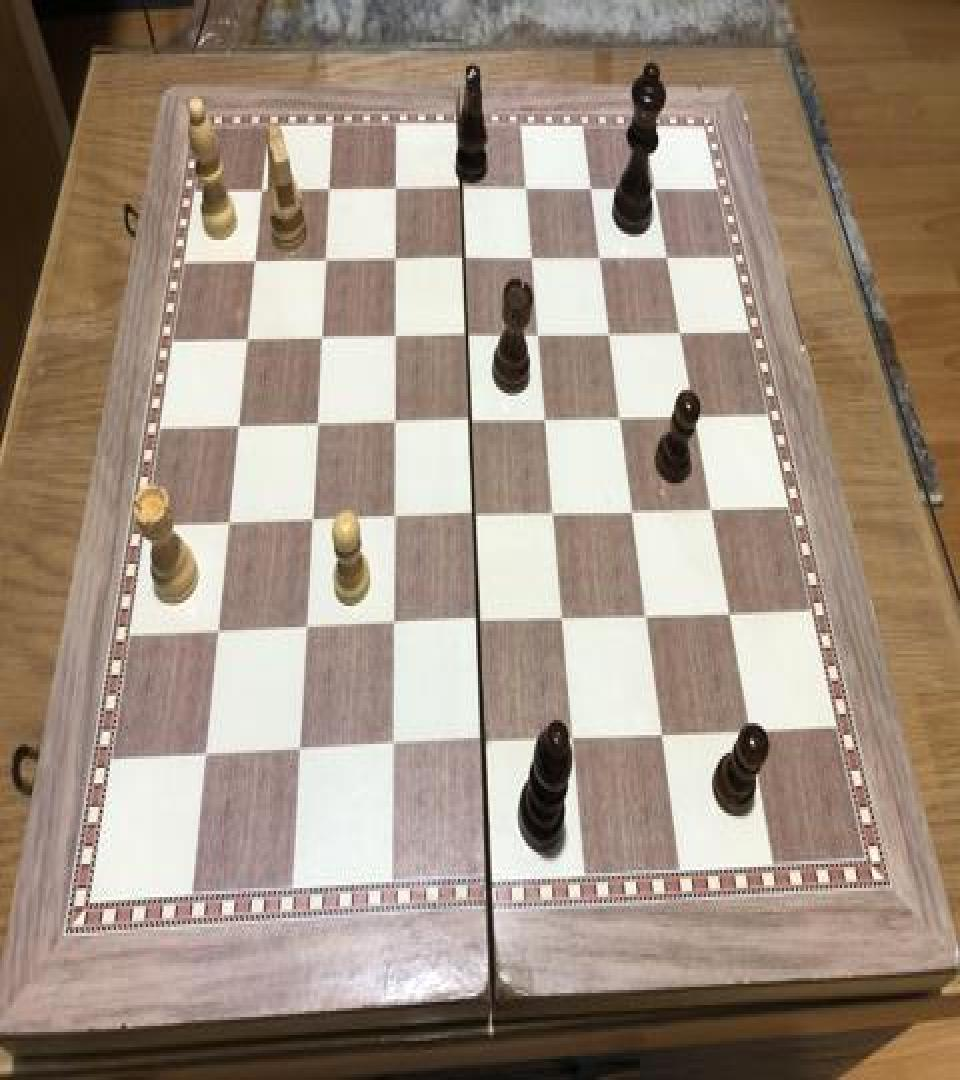xcorner: (741, 712, 765, 749), (379, 727, 403, 764), (644, 168, 668, 204), (579, 170, 603, 206), (514, 170, 538, 206), (449, 171, 473, 207), (317, 174, 341, 210), (251, 174, 275, 210), (656, 237, 680, 273), (588, 238, 612, 274), (520, 238, 544, 274), (452, 240, 476, 276), (383, 242, 407, 278), (314, 243, 338, 279), (244, 244, 268, 280), (669, 312, 693, 348), (598, 314, 622, 350), (527, 315, 551, 351), (455, 316, 479, 352), (382, 318, 406, 354), (309, 321, 333, 357), (236, 322, 260, 358), (684, 396, 708, 432), (609, 398, 633, 434), (534, 400, 558, 436), (458, 402, 482, 438), (382, 404, 406, 440), (305, 406, 329, 442), (227, 408, 251, 444), (701, 489, 725, 525), (622, 492, 646, 528), (542, 494, 566, 530), (462, 496, 486, 532), (381, 500, 405, 536), (299, 502, 323, 538), (217, 504, 241, 540), (719, 594, 743, 630), (636, 597, 660, 633), (551, 600, 575, 636), (466, 603, 490, 639), (380, 606, 404, 642), (294, 609, 318, 645), (206, 614, 230, 650), (651, 716, 675, 752), (561, 720, 585, 756), (471, 723, 495, 759), (287, 732, 311, 768), (194, 735, 218, 771), (383, 173, 407, 208)
